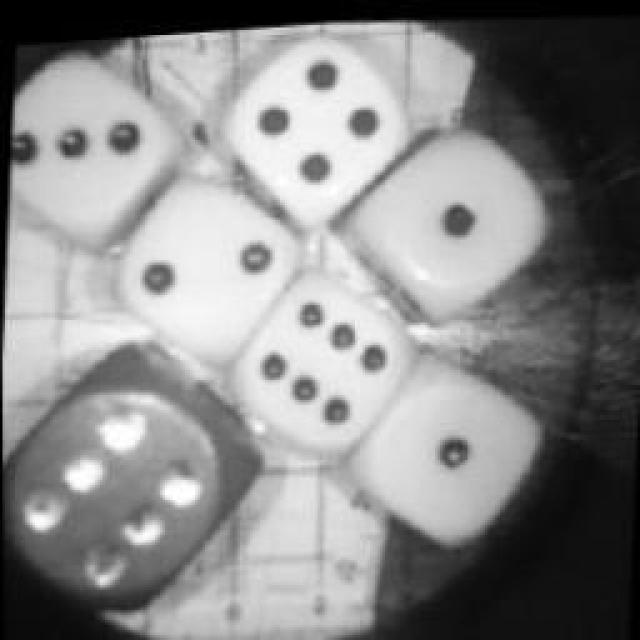dice_1: (330, 326, 555, 562), (329, 105, 559, 335)
dice_2: (91, 154, 306, 371)
dice_3: (5, 26, 185, 256)
dice_4: (208, 12, 422, 238)
dice_6: (2, 316, 272, 622), (219, 246, 419, 472)
